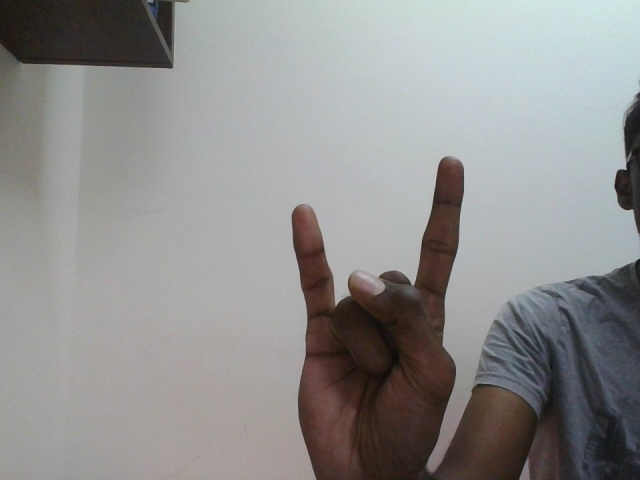I Love You: (292, 155, 464, 436)
